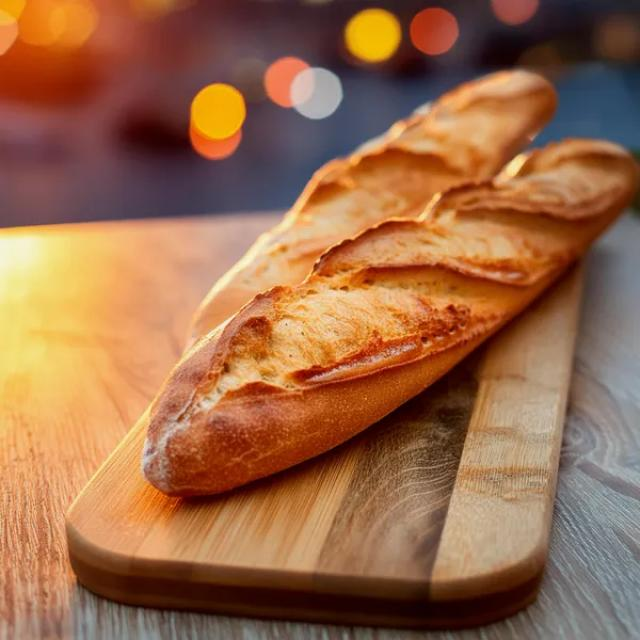Baguette: (143, 142, 635, 494), (190, 70, 556, 343)
